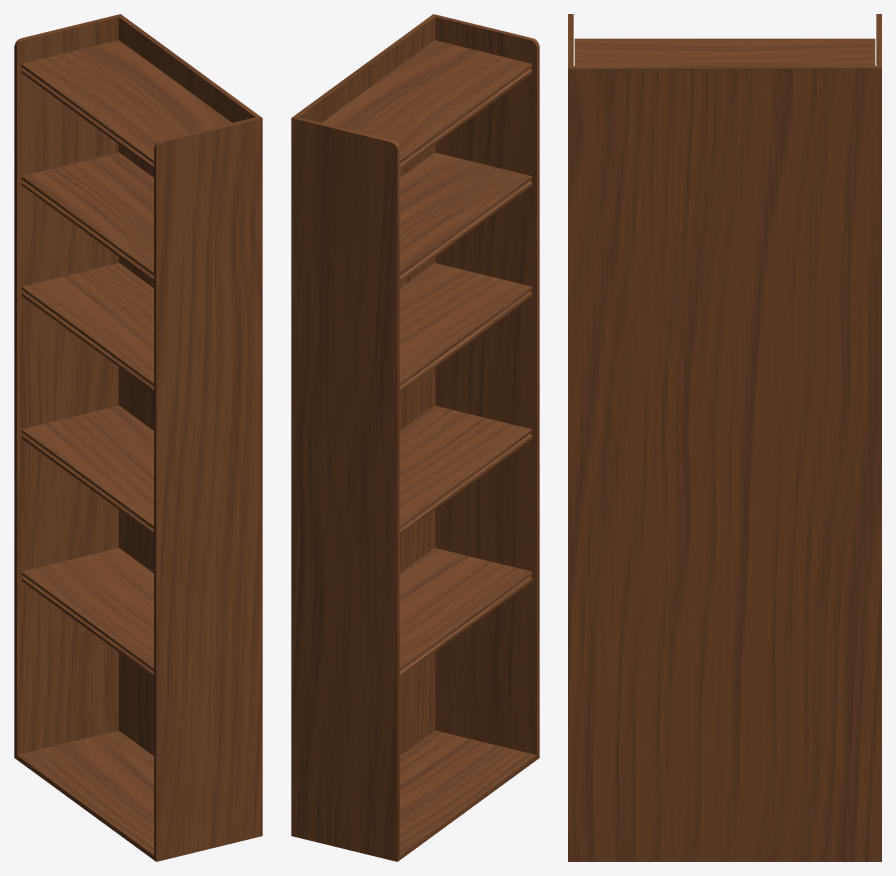
The model's file is M_Furniture_009.fbx.
The picture shows the model from 3 angles, left to right: view 1: azimuth 30°, elevation 25°; view 2: azimuth 150°, elevation 25°; view 3: azimuth 270°, elevation 25°; orthographic projection. The views are drawn at different scales.
Visible parts, largest first — view 1: M_Furniture_009; view 2: M_Furniture_009; view 3: M_Furniture_009.
Part boxes in pixels (<box>): M_Furniture_009: <box>14,14,262,861</box>; M_Furniture_009: <box>291,14,539,861</box>; M_Furniture_009: <box>568,14,881,861</box>.
Bounding box in the file's own units: 39.97 × 258 × 92.58.
Materials: 1 (1 with a texture image).
